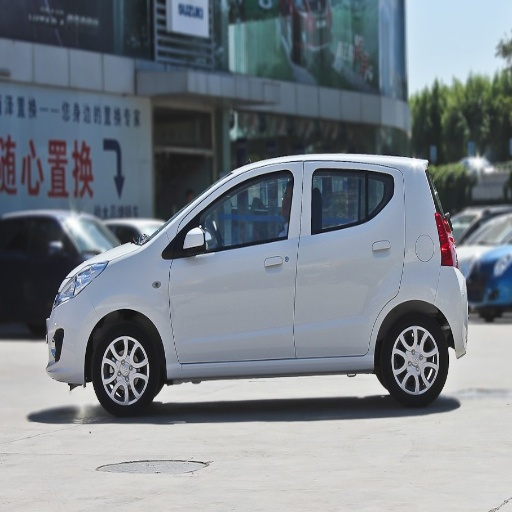back_left_door: (295, 163, 401, 352)
front_left_door: (170, 165, 302, 363)
